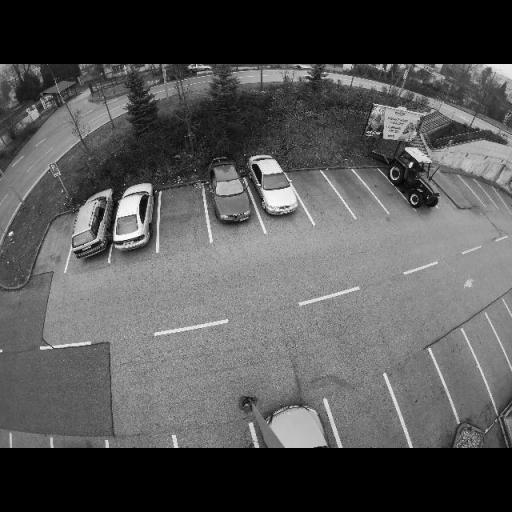busy: (382, 141, 448, 206), (260, 400, 345, 448), (203, 154, 256, 225), (110, 182, 160, 252), (248, 155, 301, 218), (70, 192, 114, 259)
free: (343, 409, 395, 445), (401, 384, 444, 422), (448, 364, 485, 398), (163, 200, 200, 230), (478, 344, 509, 376), (303, 184, 334, 210), (368, 174, 390, 199), (339, 182, 363, 204), (467, 186, 480, 206), (482, 191, 492, 212)
